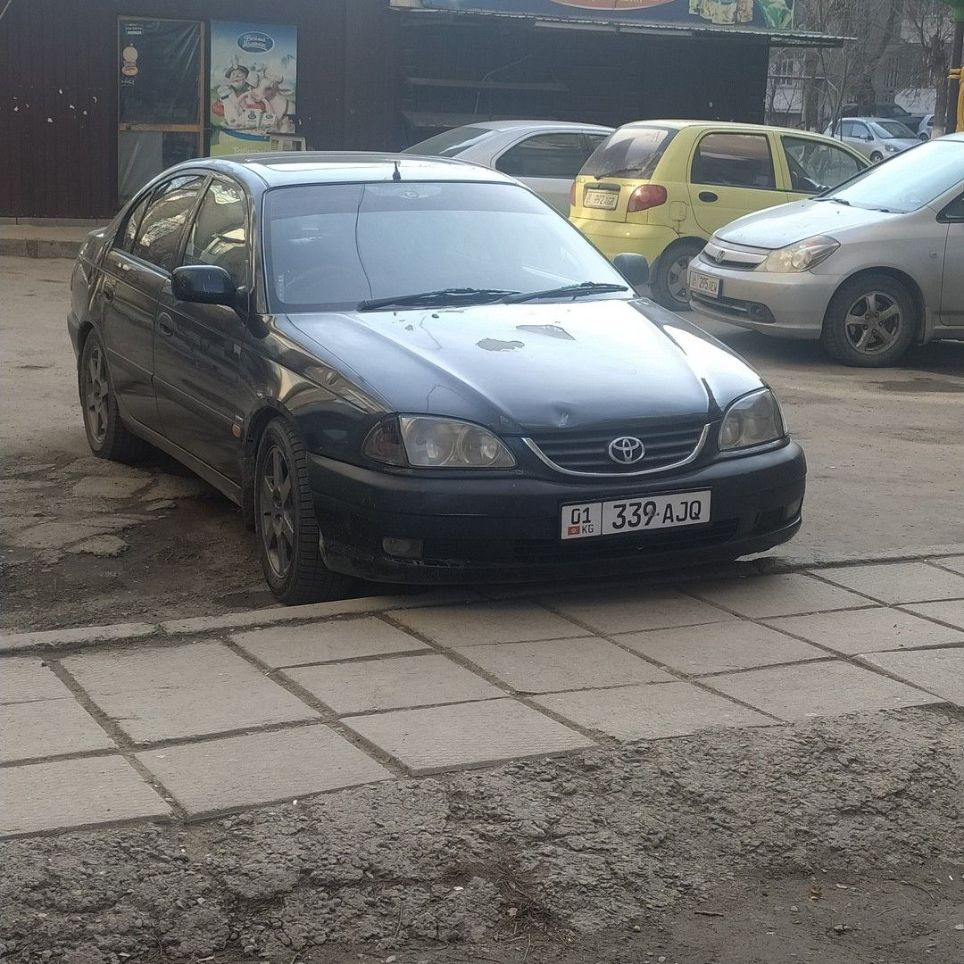license plate: (561, 485, 715, 541)
truck: (66, 151, 814, 600)
